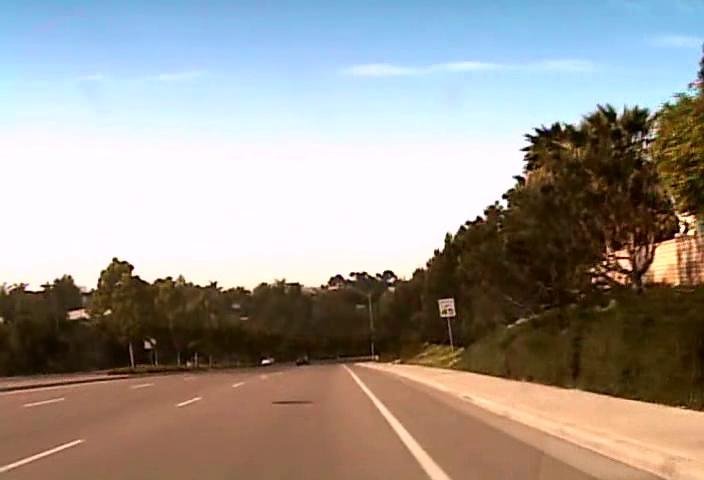speedLimit45: (437, 297, 456, 317)
